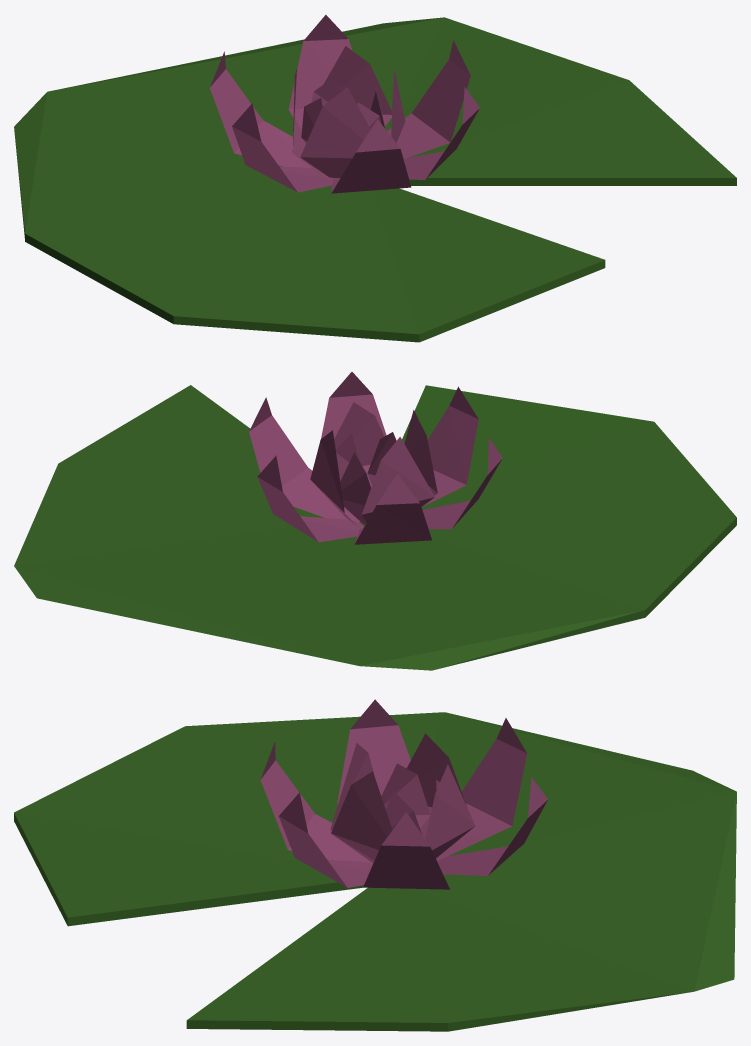
Rendered from lily.glb.
The picture shows the model from 3 angles, top to bottom: view 1: azimuth 30°, elevation 25°; view 2: azimuth 150°, elevation 25°; view 3: azimuth 270°, elevation 25°; orthographic projection. The views are drawn at different scales.
Visible parts, largest first — view 1: lily; view 2: lily; view 3: lily.
Part boxes in pixels (bbox=[...]): lily: bbox=[14, 15, 736, 342]; lily: bbox=[14, 372, 736, 670]; lily: bbox=[14, 699, 736, 1031].
Bounding box in the file's own units: 1.2 × 0.2226 × 1.16.
